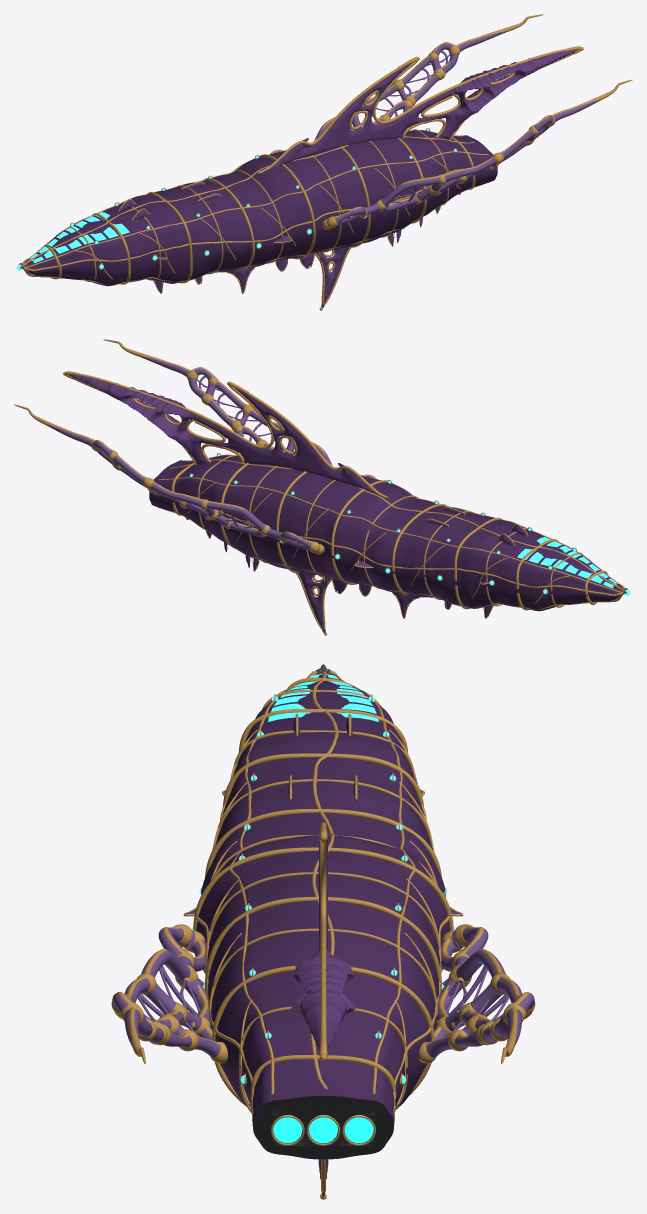
The model's file is model_v38_web.glb.
3 renders of one model, top to bottom at view 1: azimuth 30°, elevation 25°; view 2: azimuth 150°, elevation 25°; view 3: azimuth 270°, elevation 25°, orthographic. The views are drawn at different scales.
Visible parts, largest first — view 1: EXT__EXT_Hull, EXT__EXT_Copper, EXT__EXT_Blade__NC, EXT__EXT_Copper__NC, EXT__EXT_Wing, EXT__EXT_Wing__NC, EXT__EXT_Blade, EXT__EXT_Teal; view 2: EXT__EXT_Hull, EXT__EXT_Copper, EXT__EXT_Blade__NC, EXT__EXT_Copper__NC, EXT__EXT_Wing__NC, EXT__EXT_Wing, EXT__EXT_Teal; view 3: EXT__EXT_Hull, EXT__EXT_Copper, EXT__EXT_Copper__NC, EXT__EXT_Wing__NC, EXT__EXT_Wing, EXT__INT_Dark, EXT__EXT_Blade__NC, EXT__EXT_Teal, DRV__DRV_Glow__NC.
Part boxes in pixels (<box>): EXT__EXT_Hull: <box>20,130,497,286</box>; EXT__EXT_Copper: <box>18,79,632,292</box>; EXT__EXT_Blade__NC: <box>25,49,577,307</box>; EXT__EXT_Copper__NC: <box>20,14,583,310</box>; EXT__EXT_Wing: <box>328,100,600,227</box>; EXT__EXT_Wing__NC: <box>270,32,506,153</box>; EXT__EXT_Blade: <box>22,193,460,293</box>; EXT__EXT_Teal: <box>28,212,129,263</box>; EXT__EXT_Hull: <box>149,455,626,611</box>; EXT__EXT_Copper: <box>103,339,628,610</box>; EXT__EXT_Blade__NC: <box>69,374,624,632</box>; EXT__EXT_Copper__NC: <box>14,371,624,635</box>; EXT__EXT_Wing__NC: <box>46,425,318,552</box>; EXT__EXT_Wing: <box>140,357,376,478</box>; EXT__EXT_Teal: <box>517,537,618,588</box>; EXT__EXT_Hull: <box>196,669,450,1159</box>; EXT__EXT_Copper: <box>111,669,453,1116</box>; EXT__EXT_Copper__NC: <box>319,669,535,1199</box>; EXT__EXT_Wing__NC: <box>426,928,534,1057</box>; EXT__EXT_Wing: <box>112,928,220,1057</box>; EXT__INT_Dark: <box>253,1095,393,1159</box>; EXT__EXT_Blade__NC: <box>291,671,462,1197</box>; EXT__EXT_Teal: <box>268,674,378,721</box>; DRV__DRV_Glow__NC: <box>309,1115,373,1143</box>.
Bounding box in the file's own units: 119 × 45.65 × 38.03.
